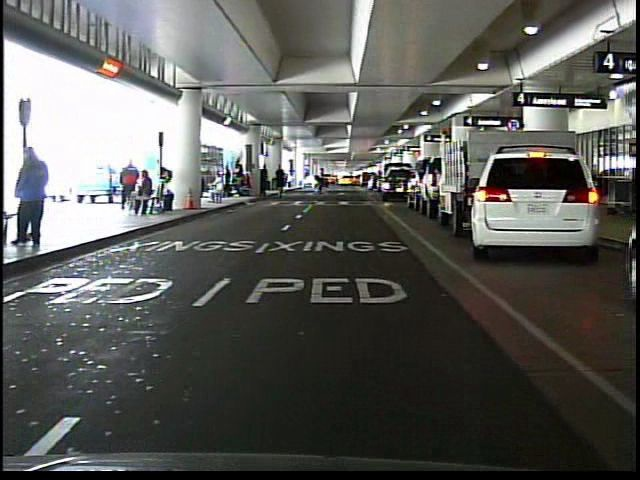person: (13, 143, 60, 254), (208, 171, 229, 207), (312, 165, 329, 195)
